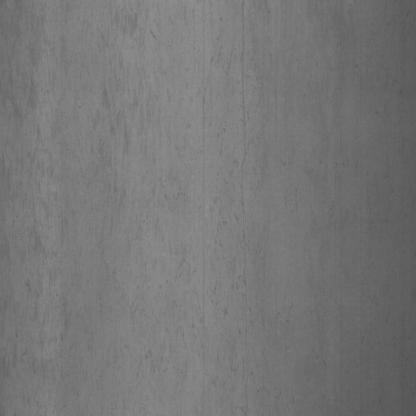silk_spot: (4, 4, 258, 405)
